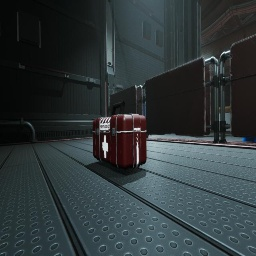FireExtinguisher ]: (146, 133, 151, 136)
FirstAidBox ,: (92, 101, 147, 170)
